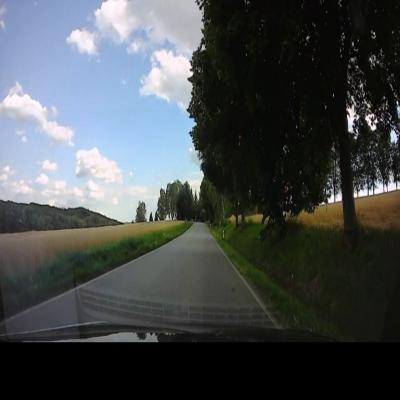clear-road: (87, 222, 263, 310)
